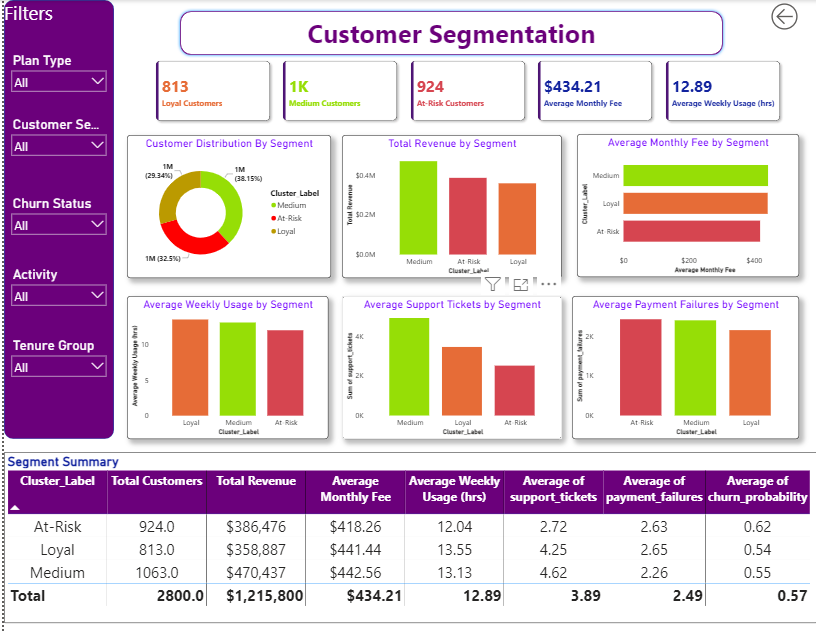

Layout of this report page (visuals, bound fields, positions):
{"tool":"powerbi","page":{"name":"Customer segmentation","canvas":[1800,1400],"ordinal":2},"visuals":[{"type":"cardVisual","fields":{"Data":["customer_analytics_final.Average Weekly Usage (hrs)"]},"box":[1441.1,110.1,301.4,181.5],"z":0},{"type":"slicer","fields":{"Values":["customer_analytics_final.plan_type"]},"box":[6.6,110.8,230.4,129.1],"z":1000,"group":"g1"},{"type":"cardVisual","fields":{"Data":["customer_analytics_final.Average Monthly Fee"]},"box":[1157.6,110.8,301.6,180.6],"z":1000},{"type":"cardVisual","fields":{"Data":["customer_analytics_final.At-Risk Customers"]},"box":[877.9,110.8,301.6,180.6],"z":2000},{"type":"slicer","fields":{"Values":["customer_analytics_final.Cluster_Label"]},"box":[6.6,252.6,230,121.5],"z":2000,"group":"g1"},{"type":"cardVisual","fields":{"Data":["customer_analytics_final.Medium Customers"]},"box":[593.8,110.8,301.6,180.6],"z":3000},{"type":"slicer","fields":{"Values":["customer_analytics_final.predicted_churn"]},"box":[6.6,427.3,230,129.1],"z":3000,"group":"g1"},{"type":"cardVisual","fields":{"Data":["customer_analytics_final.Loyal Customers"]},"box":[312,110.8,301.3,181.6],"z":4000},{"type":"slicer","fields":{"Values":["customer_analytics_final.avg_weekly_usage_hours"]},"box":[6.6,584.2,230,121.5],"z":4000,"group":"g1"},{"type":"donutChart","title":"Customer Distribution By Segment","fields":{"Category":["customer_analytics_final.Cluster_Label"],"Y":["Sum(customer_analytics_final.user_id)"]},"box":[273.4,298.1,451.9,317.1],"z":5000},{"type":"slicer","fields":{"Values":["customer_analytics_final.tenure_months"]},"box":[6.6,741.2,230,136.7],"z":5000,"group":"g1"},{"type":"clusteredColumnChart","title":"Total Revenue by Segment","fields":{"Category":["customer_analytics_final.Cluster_Label"],"Y":["customer_analytics_final.Total Revenue"]},"box":[748.7,299.1,487.3,316.8],"z":6000},{"type":"shape","box":[0,0,243.7,972.5],"z":6501,"group":"g2"},{"type":"group","id":"g1","title":"Group 1","box":[6.6,110.8,230.4,768.7],"z":6509,"group":"g2"},{"type":"clusteredBarChart","title":"Average Monthly Fee by Segment","fields":{"Category":["customer_analytics_final.Cluster_Label"],"Y":["customer_analytics_final.Average Monthly Fee"]},"box":[1269.3,296.8,491.8,316.8],"z":7000},{"type":"clusteredColumnChart","title":"Average Weekly Usage by Segment","fields":{"Category":["customer_analytics_final.Cluster_Label"],"Y":["customer_analytics_final.Average Weekly Usage (hrs)"]},"box":[273.4,655.1,446.2,317.1],"z":8000},{"type":"clusteredColumnChart","title":"Average Support Tickets by Segment","fields":{"Category":["customer_analytics_final.Cluster_Label"],"Y":["Sum(customer_analytics_final.support_tickets)"]},"box":[748.7,655.7,487.3,316.8],"z":9000},{"type":"clusteredColumnChart","title":"Average Payment Failures by Segment","fields":{"Category":["customer_analytics_final.Cluster_Label"],"Y":["Sum(customer_analytics_final.payment_failures)"]},"box":[1258.2,655.7,502.8,316.8],"z":10000},{"type":"tableEx","title":"Segment Summary","fields":{"Values":["customer_analytics_final.Cluster_Label","customer_analytics_final.Total Customers","customer_analytics_final.Total Revenue","customer_analytics_final.Average Monthly Fee","customer_analytics_final.Average Weekly Usage (hrs)","Avg(customer_analytics_final.support_tickets)","Avg(customer_analytics_final.payment_failures)","Avg(customer_analytics_final.churn_probability)"]},"box":[0,1001.3,1800.9,378.8],"z":11000},{"type":"shape","box":[383.2,17.7,1216.1,110.8],"z":12000},{"type":"group","id":"g2","title":"Group 2","box":[0,0,243.7,972.5],"z":13000},{"type":"actionButton","box":[1692.4,0,99.7,73.1],"z":13001}]}

Visuals, with their boxes in screenshot pixels (x1, y1, x2, y2), scaled from the page's 1800x1400 canvas onto the 816x631 screenshot:
cardVisual - customer_analytics_final.Average Weekly Usage (hrs): pyautogui.locateOnScreen(653, 50, 790, 131)
slicer - customer_analytics_final.plan_type: pyautogui.locateOnScreen(3, 50, 107, 108)
cardVisual - customer_analytics_final.Average Monthly Fee: pyautogui.locateOnScreen(525, 50, 662, 131)
cardVisual - customer_analytics_final.At-Risk Customers: pyautogui.locateOnScreen(398, 50, 535, 131)
slicer - customer_analytics_final.Cluster_Label: pyautogui.locateOnScreen(3, 114, 107, 169)
cardVisual - customer_analytics_final.Medium Customers: pyautogui.locateOnScreen(269, 50, 406, 131)
slicer - customer_analytics_final.predicted_churn: pyautogui.locateOnScreen(3, 193, 107, 251)
cardVisual - customer_analytics_final.Loyal Customers: pyautogui.locateOnScreen(141, 50, 278, 132)
slicer - customer_analytics_final.avg_weekly_usage_hours: pyautogui.locateOnScreen(3, 263, 107, 318)
"Customer Distribution By Segment" donutChart: pyautogui.locateOnScreen(124, 134, 329, 277)
slicer - customer_analytics_final.tenure_months: pyautogui.locateOnScreen(3, 334, 107, 396)
"Total Revenue by Segment" clusteredColumnChart: pyautogui.locateOnScreen(339, 135, 560, 278)
shape: pyautogui.locateOnScreen(0, 0, 110, 438)
"Group 1" group: pyautogui.locateOnScreen(3, 50, 107, 396)
"Average Monthly Fee by Segment" clusteredBarChart: pyautogui.locateOnScreen(575, 134, 798, 277)
"Average Weekly Usage by Segment" clusteredColumnChart: pyautogui.locateOnScreen(124, 295, 326, 438)
"Average Support Tickets by Segment" clusteredColumnChart: pyautogui.locateOnScreen(339, 296, 560, 438)
"Average Payment Failures by Segment" clusteredColumnChart: pyautogui.locateOnScreen(570, 296, 798, 438)
"Segment Summary" tableEx: pyautogui.locateOnScreen(0, 451, 815, 622)
shape: pyautogui.locateOnScreen(174, 8, 725, 58)
"Group 2" group: pyautogui.locateOnScreen(0, 0, 110, 438)
actionButton: pyautogui.locateOnScreen(767, 0, 812, 33)
